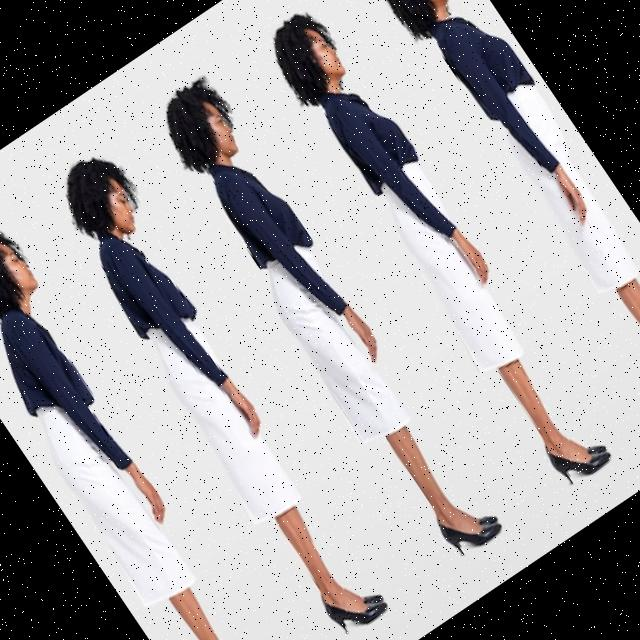Person: (40, 142, 412, 640), (142, 69, 513, 567), (255, 0, 622, 495), (0, 220, 305, 640), (364, 0, 640, 422)
